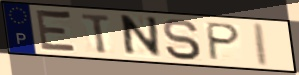E: (34, 7, 80, 55)
I: (254, 21, 271, 68)
N: (121, 14, 164, 59)
P: (206, 21, 243, 62)
S: (161, 17, 204, 62)
T: (80, 12, 113, 55)
